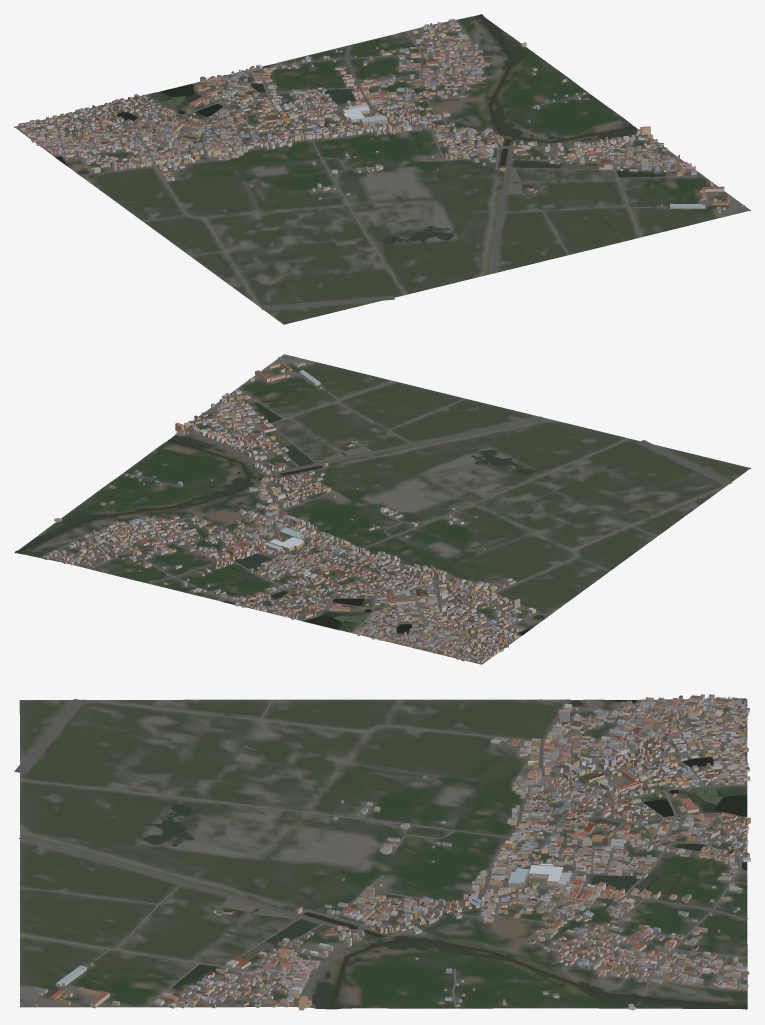
3 views of the same model, one above another, from view 1: azimuth 30°, elevation 25°; view 2: azimuth 150°, elevation 25°; view 3: azimuth 270°, elevation 25° (orthographic). The views are drawn at different scales.
Parts seen in each view (by area): view 1: ground, buildings, roads, water; view 2: ground, buildings, roads, water; view 3: ground, buildings, roads, water.
Boxes of the visible parts, box(x1,y1,x2,y2) form: ground: box(14, 16, 750, 324); buildings: box(18, 19, 744, 212); roads: box(16, 20, 731, 310); water: box(55, 14, 664, 243); ground: box(15, 354, 750, 664); buildings: box(42, 357, 535, 663); roads: box(41, 359, 731, 664); water: box(14, 403, 544, 634); ground: box(19, 699, 747, 1009); buildings: box(33, 694, 750, 1010); roads: box(14, 699, 747, 1008); water: box(143, 700, 747, 1009).
Size of the model in its own units: 1422 by 28.8 by 1420.
